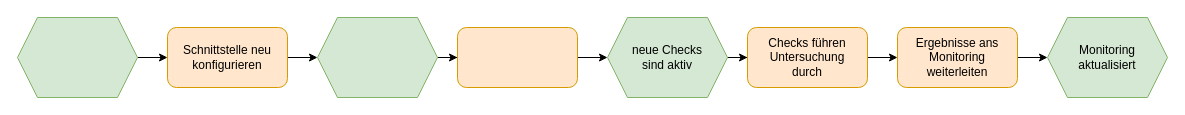
Some shapes in this 1185 by 115 pixel diagram are drawn without their labels. The centre of each missing label's shape, as x and y in pixels:
neue Checks generieren: pixel 517 57
neue Metrik zu MetricQ hinzugefügt: pixel 77 57
Schnittstelle erkennt neue Metriken: pixel 377 57
